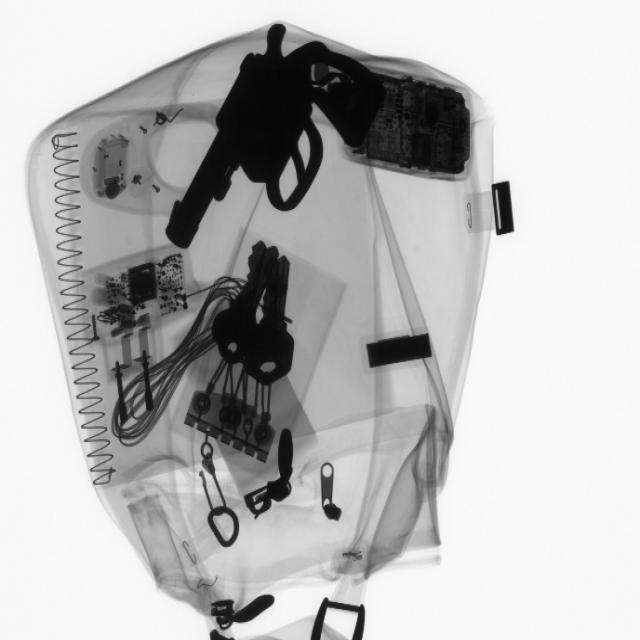GUN: (167, 27, 383, 263)
